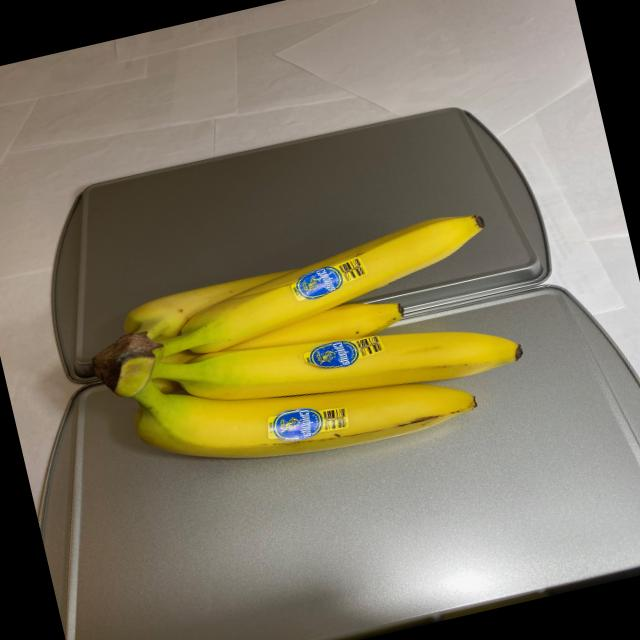banana: (74, 194, 541, 502)
